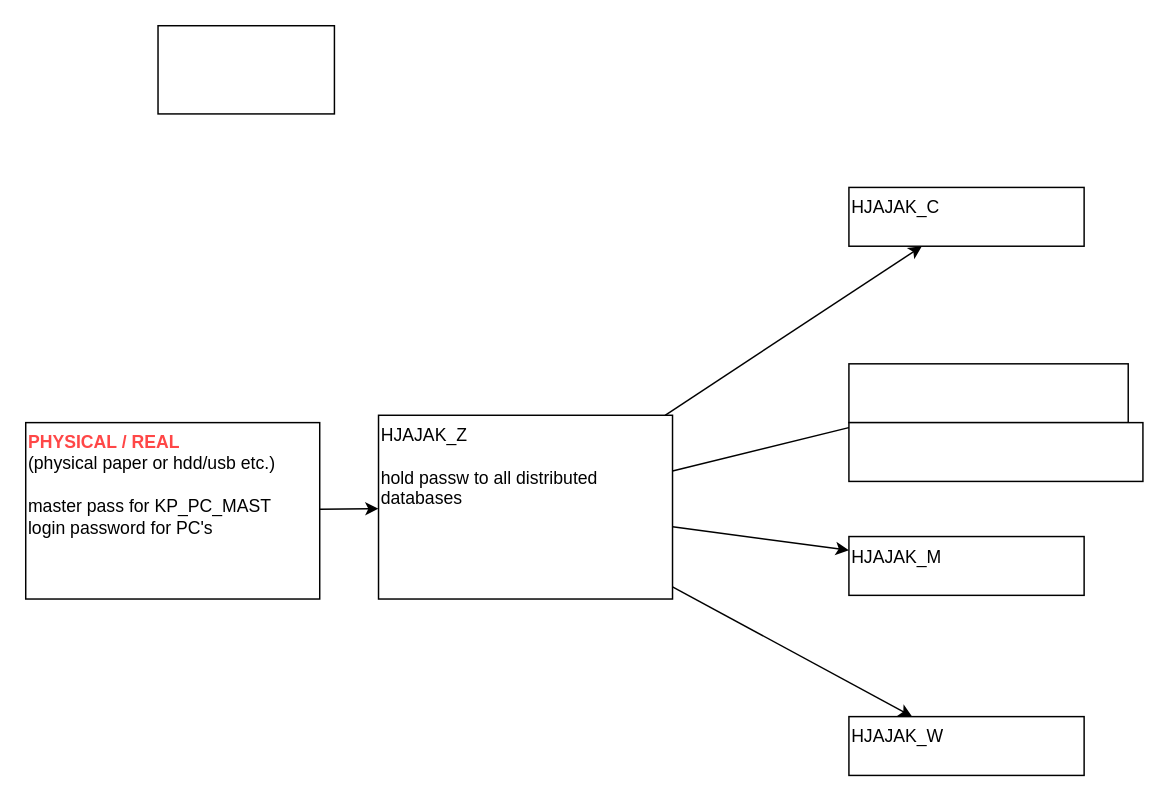
Some shapes in this 1169 by 801 pixel diagram are drawn without their labels. Each missing label, with the box of its shape:
HJAJAK_PF (never connect via browser ext.): (847, 362, 1128, 423)
HJAJAK_PO: (847, 421, 1143, 481)
kp strategy: (157, 24, 334, 114)
